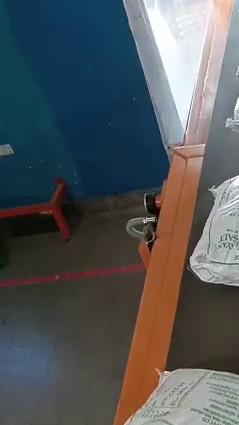box: (122, 368, 239, 425), (190, 175, 239, 287), (225, 93, 239, 133)
